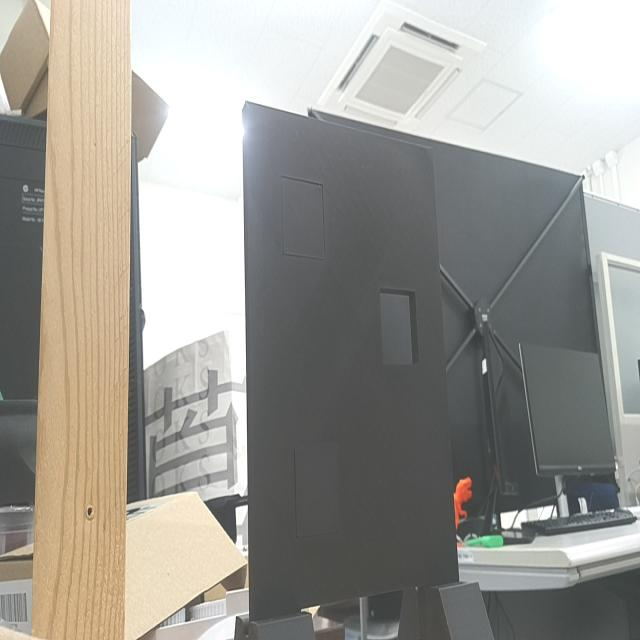Obstacle: (381, 289, 418, 364)
Wall: (244, 103, 458, 619)
